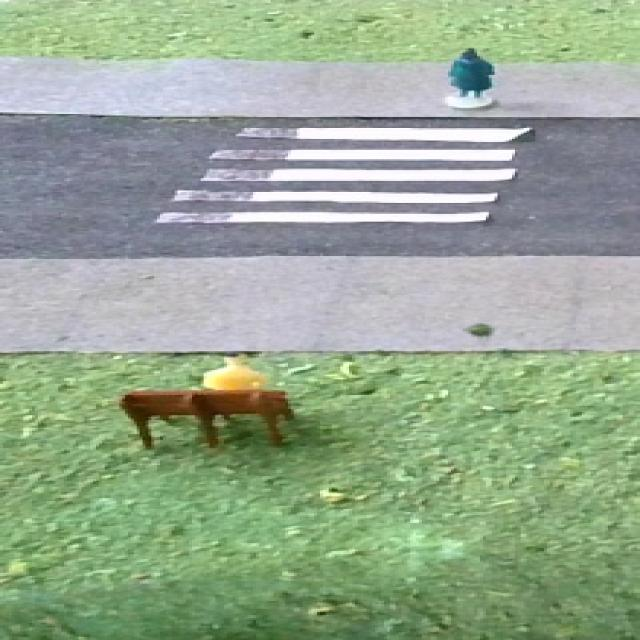person: (434, 41, 512, 116), (191, 347, 271, 391)
